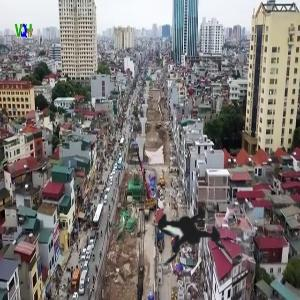drone: (120, 156, 263, 299)
